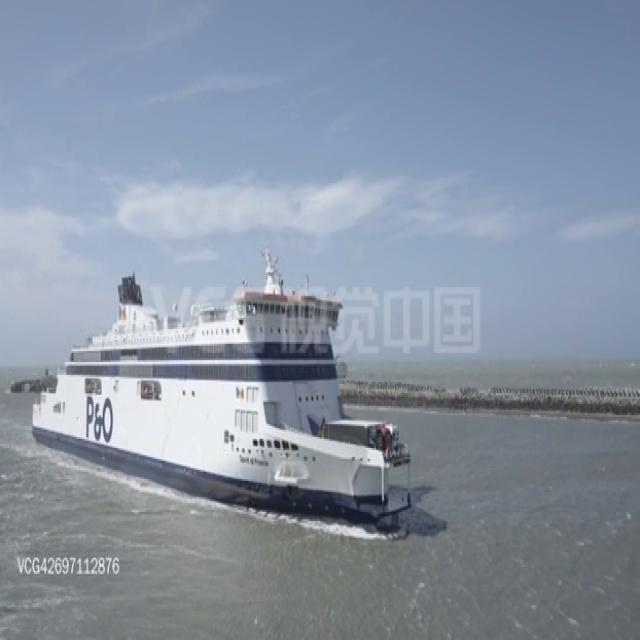passenger ship: (19, 264, 414, 528)
